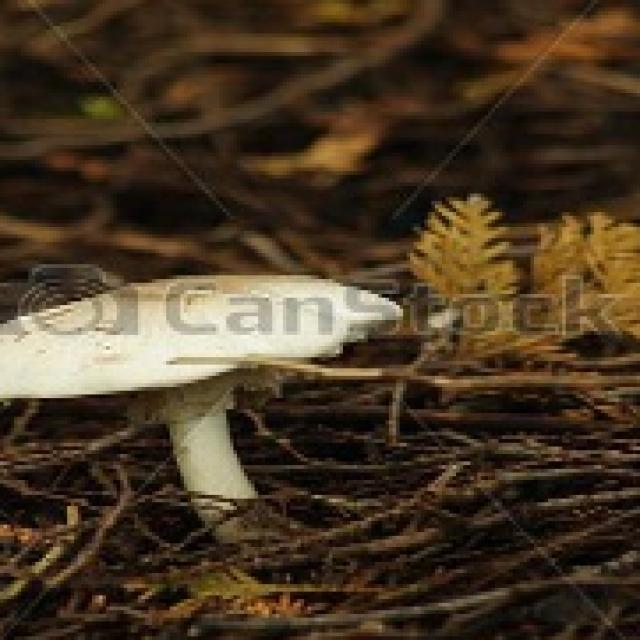mushroom: (0, 264, 400, 554)
